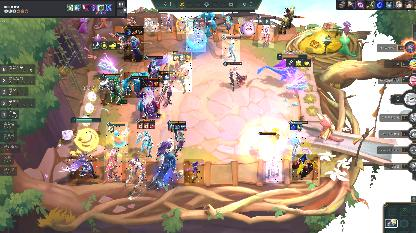1_aurelionsol: (156, 142, 178, 190)
1_bard: (292, 154, 318, 180)
1_nilah: (222, 12, 234, 34)
1_nomsy: (238, 18, 256, 36)
1_pantheon: (67, 153, 97, 179)
1_qiyana: (177, 16, 193, 34)
1_rell: (278, 6, 296, 34)
1_sylas: (126, 158, 146, 186)
1_twitch: (128, 16, 136, 26)
1_varus: (184, 159, 204, 183)
1_yasuo: (266, 159, 282, 183)
1_zac: (204, 12, 216, 34)
1_zippy: (104, 149, 122, 183)
1_zyra: (161, 14, 173, 32)
2_ezreal: (222, 34, 240, 62)
2_kaisa: (136, 120, 154, 158)
2_malphite: (100, 74, 128, 106)
2_nilah: (168, 121, 186, 153)
2_pantheon: (144, 56, 162, 76)
2_rakan: (224, 62, 246, 92), (158, 72, 174, 106)
2_soraka: (289, 120, 307, 156)
2_twitch: (116, 32, 128, 50), (144, 18, 158, 32)
2_varus: (186, 18, 206, 52)
2_xayah: (258, 16, 274, 48)
2_yasuo: (140, 77, 160, 119)
2_zac: (124, 72, 146, 98)
2_zeri: (106, 122, 128, 156)
3_braum: (168, 52, 192, 92)
3_yone: (124, 26, 144, 62)
